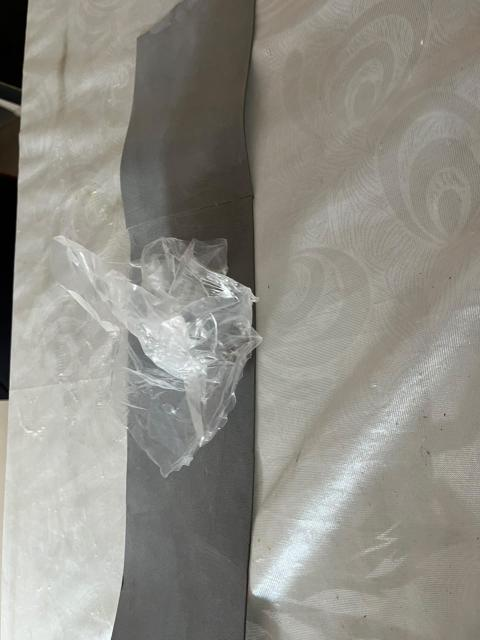LDPE: (37, 153, 275, 493)
